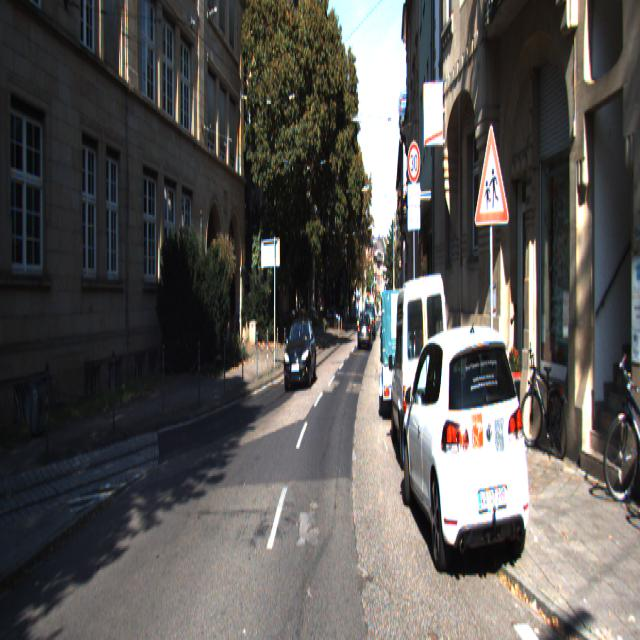Car: (400, 312, 536, 596), (388, 263, 452, 479), (378, 284, 414, 424), (282, 314, 316, 393), (358, 309, 372, 351)
